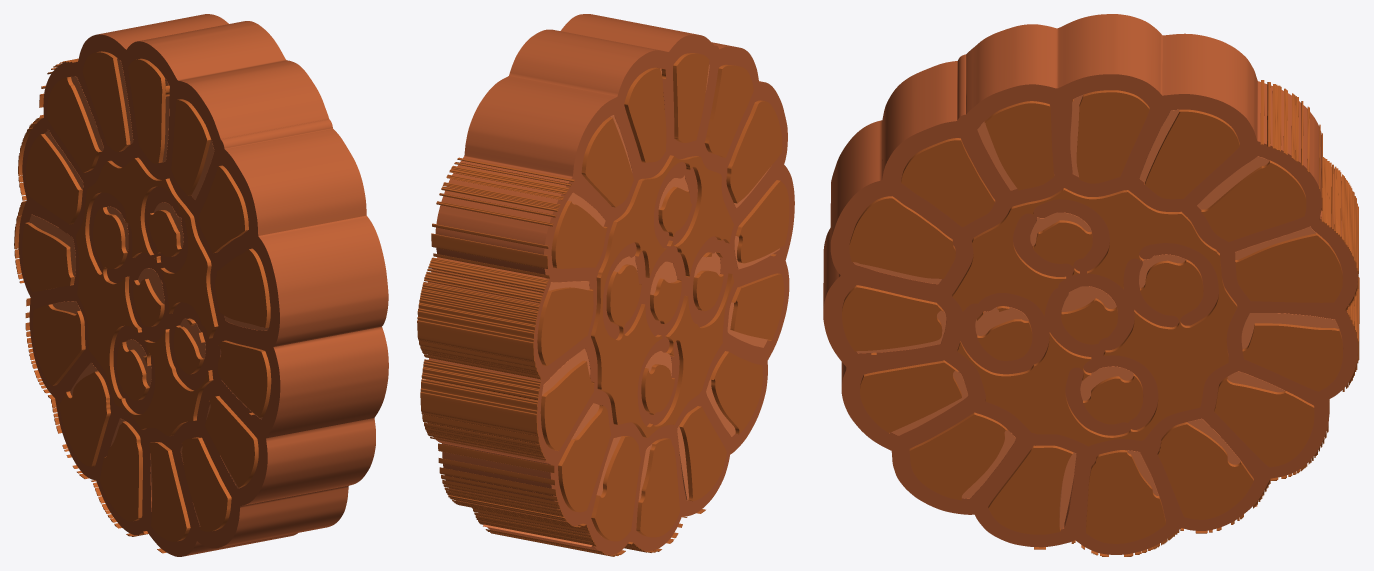
File: Yakgya(2).fbx
3 renders of one model, left to right at view 1: azimuth 30°, elevation 25°; view 2: azimuth 150°, elevation 25°; view 3: azimuth 270°, elevation 25°, orthographic. The views are drawn at different scales.
Visible parts, largest first — view 1: Curve, Curve.004, Curve.001; view 2: Curve.004, Curve, Curve.001; view 3: Curve.004, Curve, Curve.001.
Boxes of the visible parts, x1,y1,x2,y2 form: Curve: (18, 14, 388, 556); Curve.004: (14, 51, 271, 553); Curve.001: (29, 58, 268, 526); Curve.004: (417, 53, 789, 556); Curve: (426, 14, 794, 555); Curve.001: (483, 64, 779, 546); Curve.004: (842, 80, 1359, 556); Curve: (823, 14, 1357, 554); Curve.001: (853, 95, 1338, 529).
Bounding box in the file's own units: 53.76 × 180 × 175.
